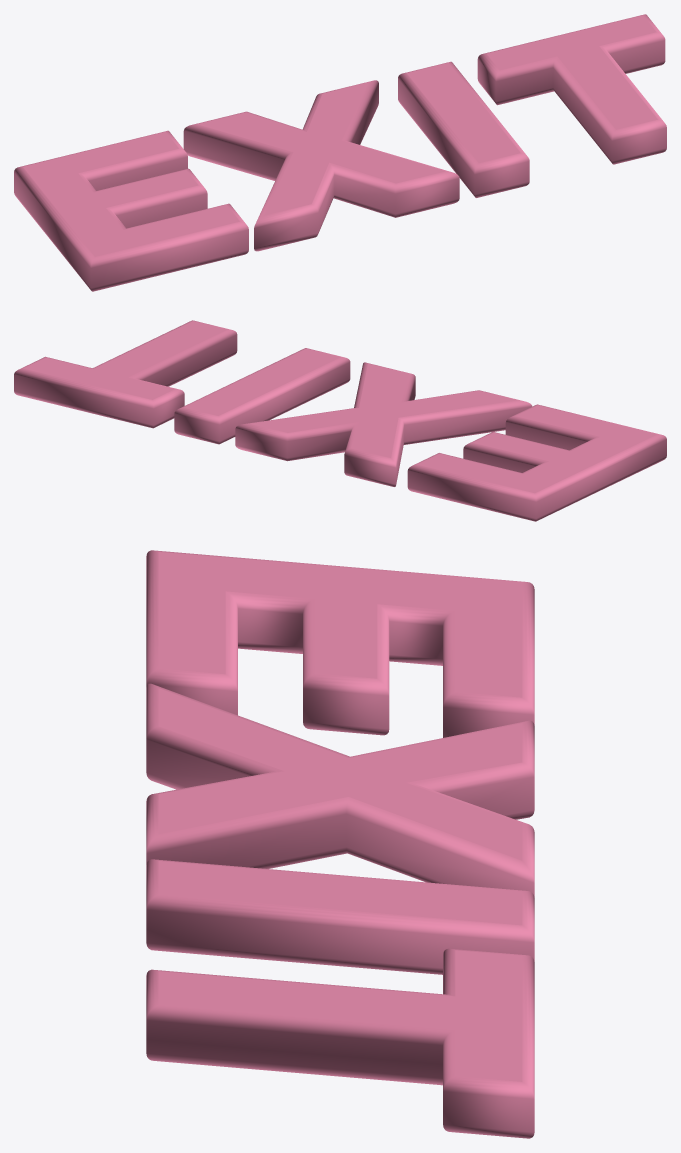
The model's file is exit_text.fbx.
3 views of the same model, one above another, from view 1: azimuth 30°, elevation 25°; view 2: azimuth 150°, elevation 25°; view 3: azimuth 270°, elevation 25° (orthographic). The views are drawn at different scales.
Visible parts, largest first — view 1: PRODUCTION IMAGES.001; view 2: PRODUCTION IMAGES.001; view 3: PRODUCTION IMAGES.001.
Boxes of the visible parts, box(x1,y1,x2,y2) form: PRODUCTION IMAGES.001: box(14, 14, 666, 291); PRODUCTION IMAGES.001: box(14, 320, 666, 521); PRODUCTION IMAGES.001: box(146, 550, 534, 1138).
Bounding box in the file's own units: 211 × 10 × 63.85.
